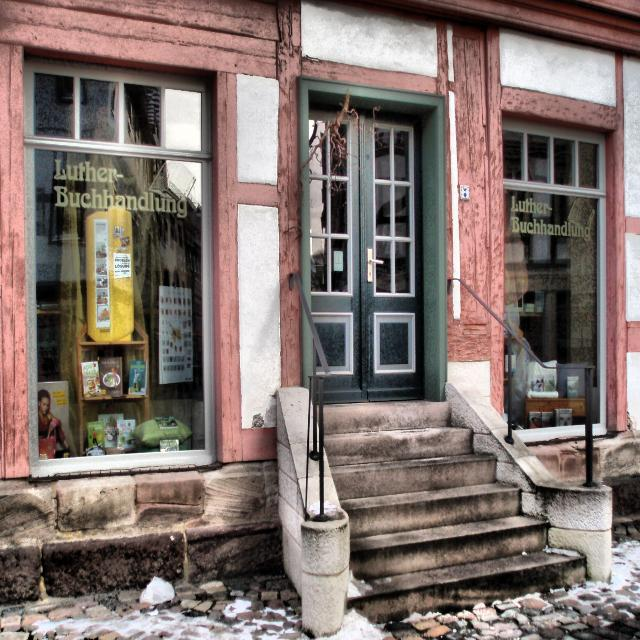escada: (309, 400, 587, 616)
